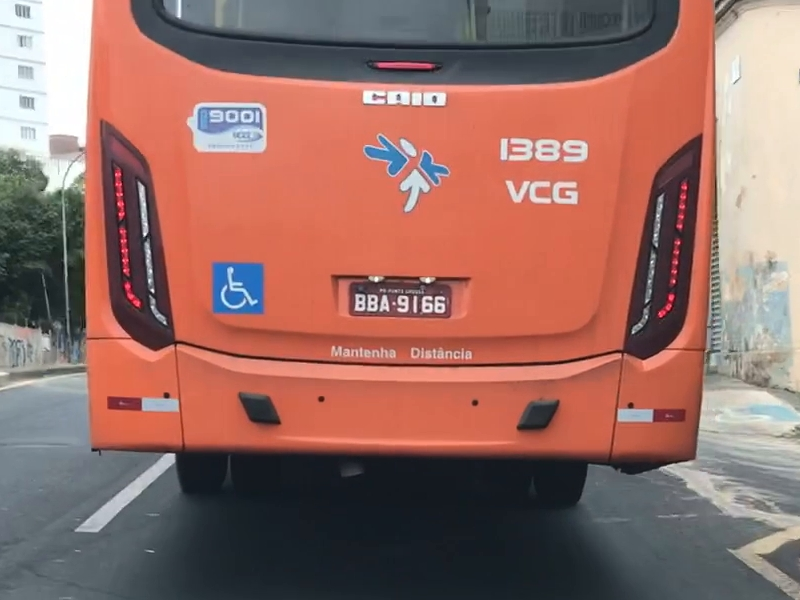placa: (349, 282, 452, 318)
